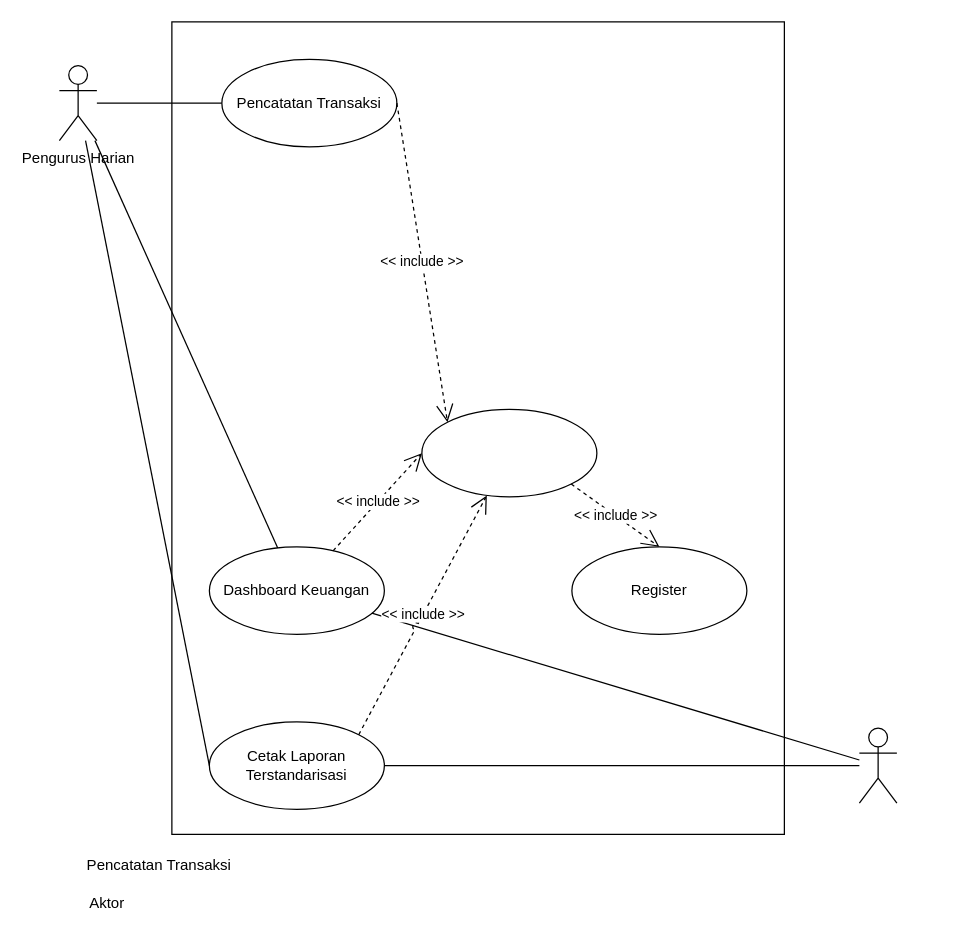
The diagram is 966 pixels wide and 944 high, and some of its shapes have lost their labels. Each missing label, with the box of its shape:
Login: (421, 408, 597, 497)
Pemimpin Lembaga: (858, 727, 897, 803)
